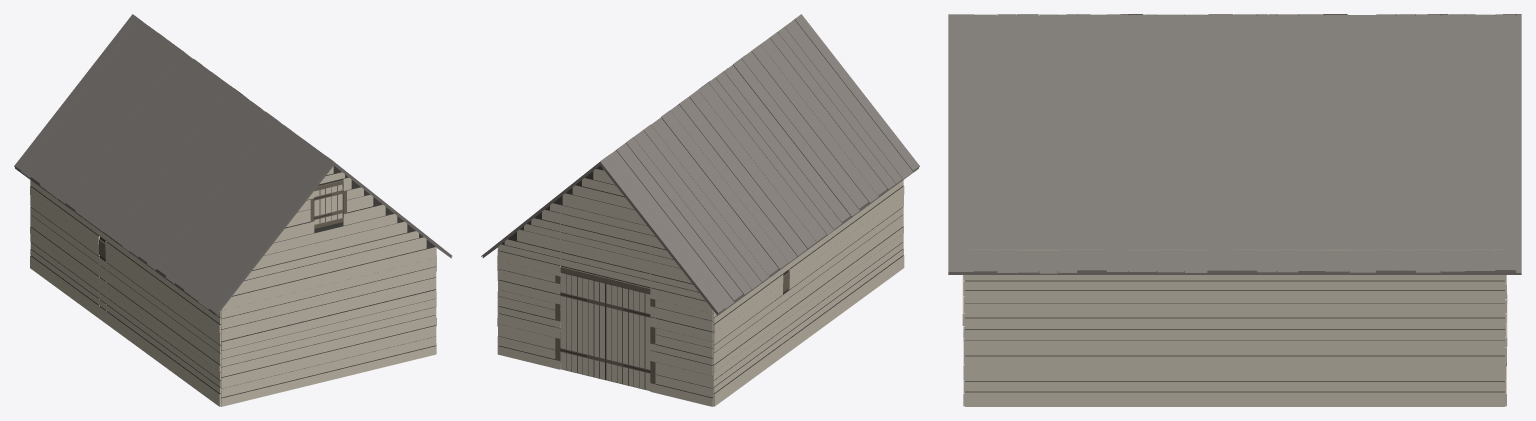
The model's file is recon_1835_blk_randolph_dearborn_a2_17__inferred_1835.glb.
The picture shows the model from 3 angles, left to right: view 1: azimuth 30°, elevation 25°; view 2: azimuth 150°, elevation 25°; view 3: azimuth 270°, elevation 25°; orthographic projection. The views are drawn at different scales.
Parts seen in each view (by area): view 1: recon_1835_blk_randolph_dearborn_a2_17__inferred_1835; view 2: recon_1835_blk_randolph_dearborn_a2_17__inferred_1835; view 3: recon_1835_blk_randolph_dearborn_a2_17__inferred_1835.
Part boxes in pixels (bbox=[...]): recon_1835_blk_randolph_dearborn_a2_17__inferred_1835: bbox=[14, 14, 452, 406]; recon_1835_blk_randolph_dearborn_a2_17__inferred_1835: bbox=[481, 14, 919, 406]; recon_1835_blk_randolph_dearborn_a2_17__inferred_1835: bbox=[948, 14, 1521, 406].
Bounding box in the file's own units: 7.66 × 6.87 × 11.23.
